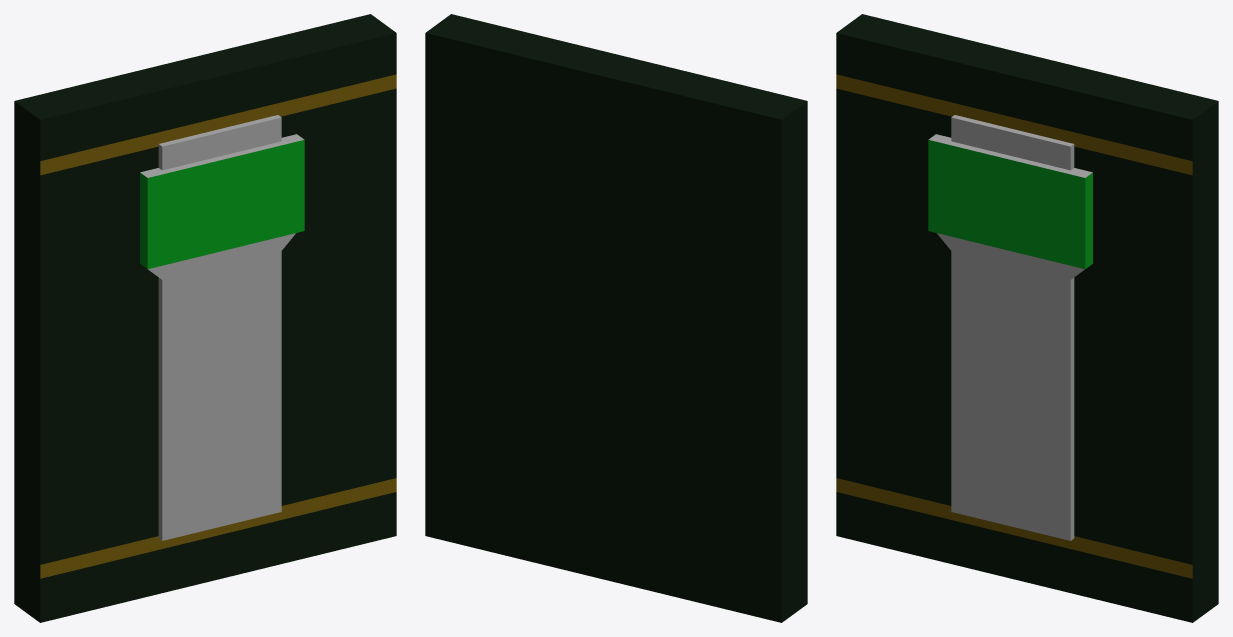
File: 保险柜门.fbx
The picture shows the model from 3 angles, left to right: view 1: azimuth 30°, elevation 25°; view 2: azimuth 150°, elevation 25°; view 3: azimuth 330°, elevation 25°; orthographic projection.
Visible parts, largest first — view 1: 保险柜门; view 2: 保险柜门; view 3: 保险柜门.
Boxes of the visible parts, x1,y1,x2,y2 form: 保险柜门: (14,14,396,622); 保险柜门: (425,14,807,622); 保险柜门: (836,14,1218,622).
Size of the model in its own units: 100 by 135 by 16.32.
